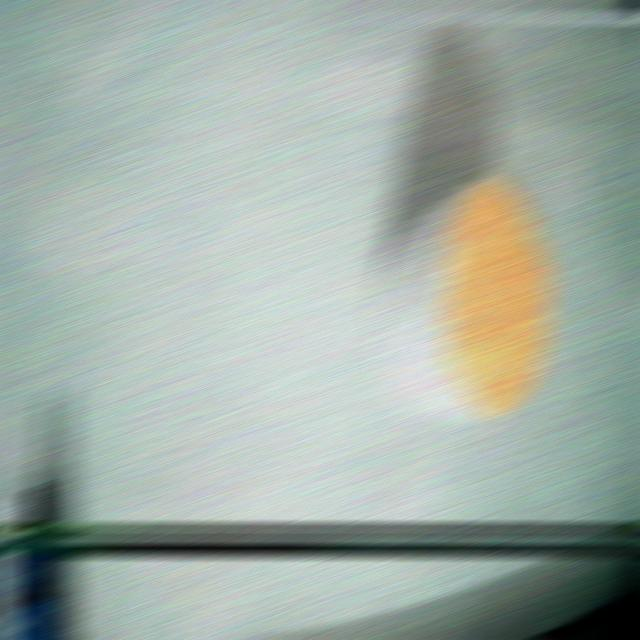yellow: (439, 180, 552, 415)
